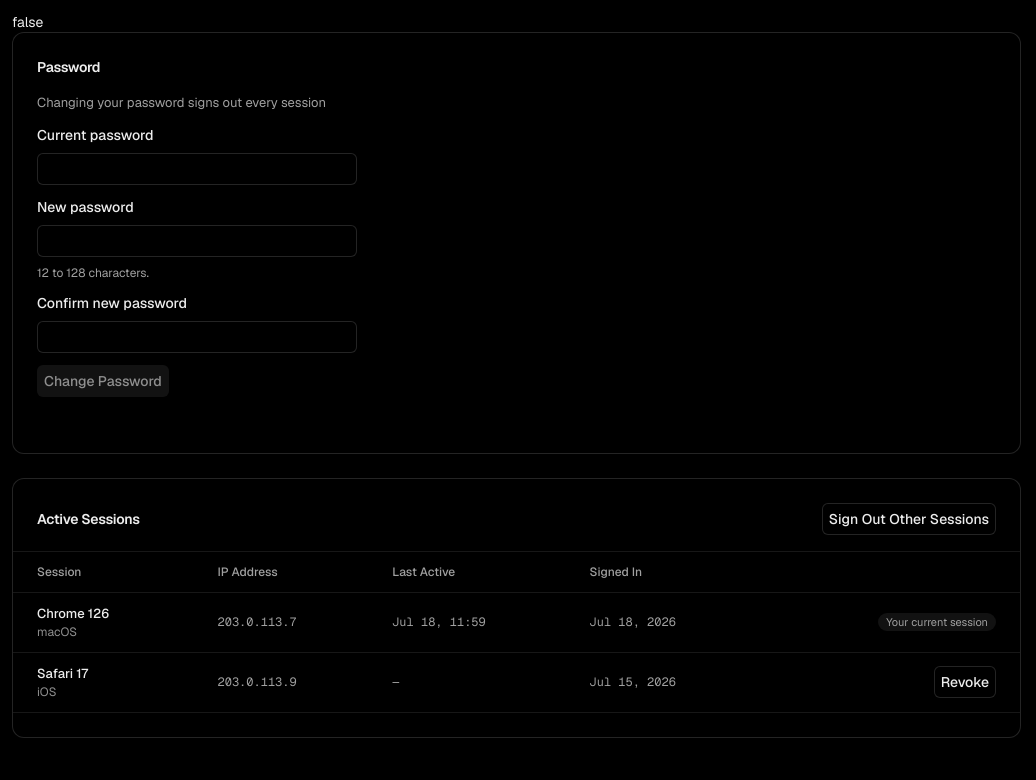
it: SecuritySettings sessions › confirms before signing out all other sessions and reports the count
Click the button "Sign Out Other Sessions": x=909, y=519 [822,503,996,535]
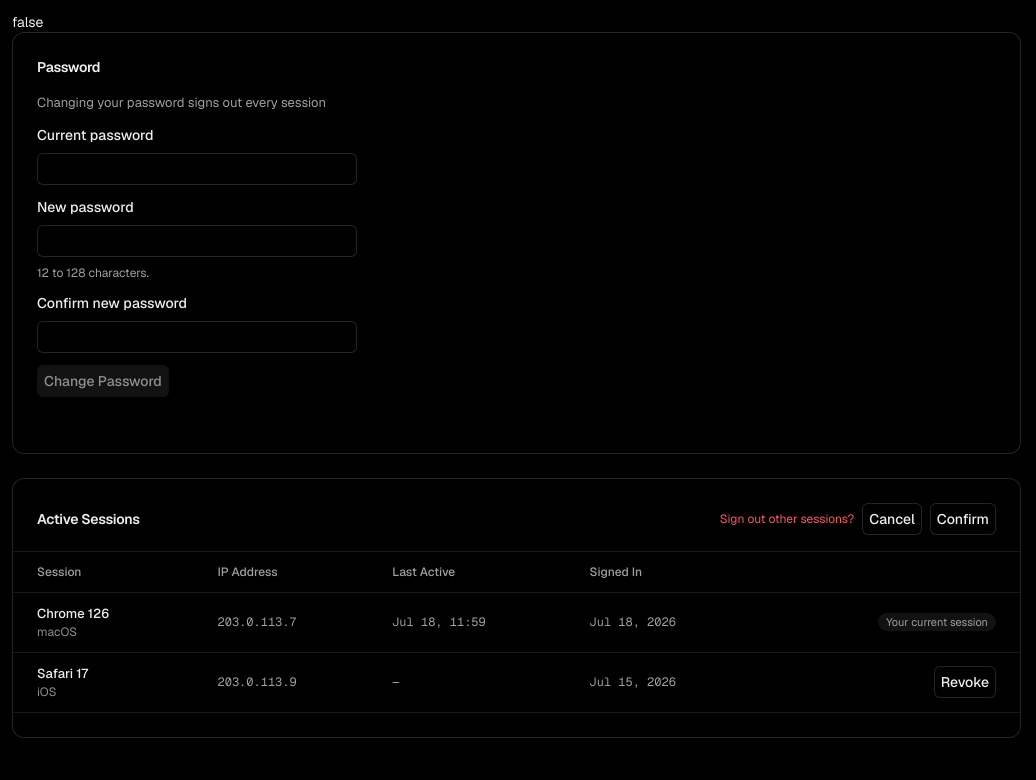
Click the button "Confirm": x=963, y=519 [930,503,996,535]
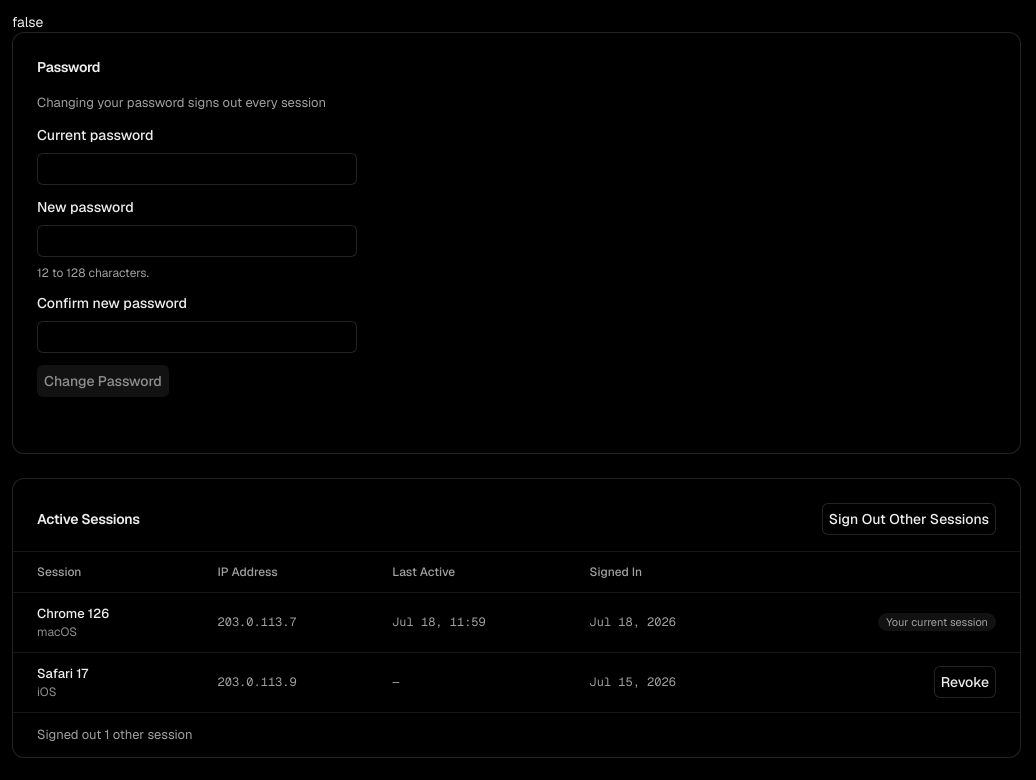
Expected: the text "Signed out 1 other session" is shown, [13,712,1020,757]
